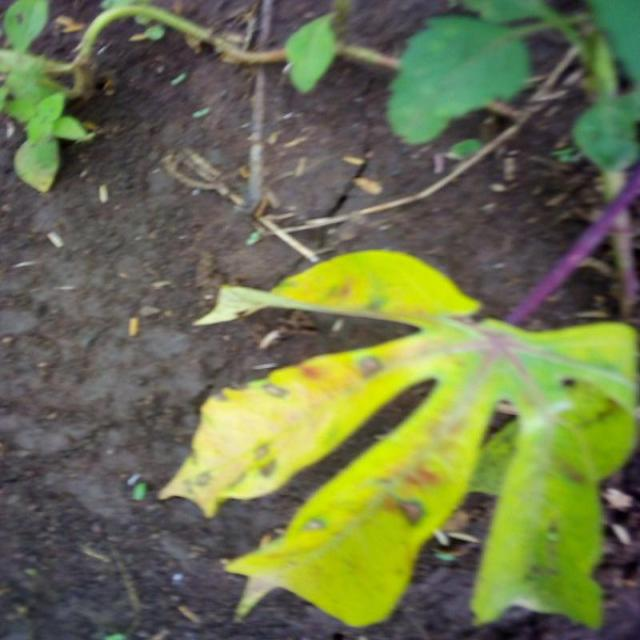cassava leaf: (158, 248, 639, 630), (385, 12, 532, 145)
